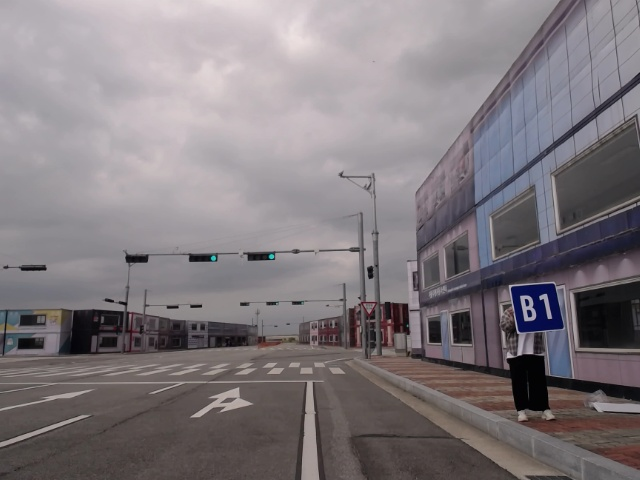delivery_b1: (510, 283, 565, 334)
straight_green_4: (248, 252, 276, 261), (189, 254, 218, 262), (266, 302, 279, 306), (292, 301, 304, 305)
